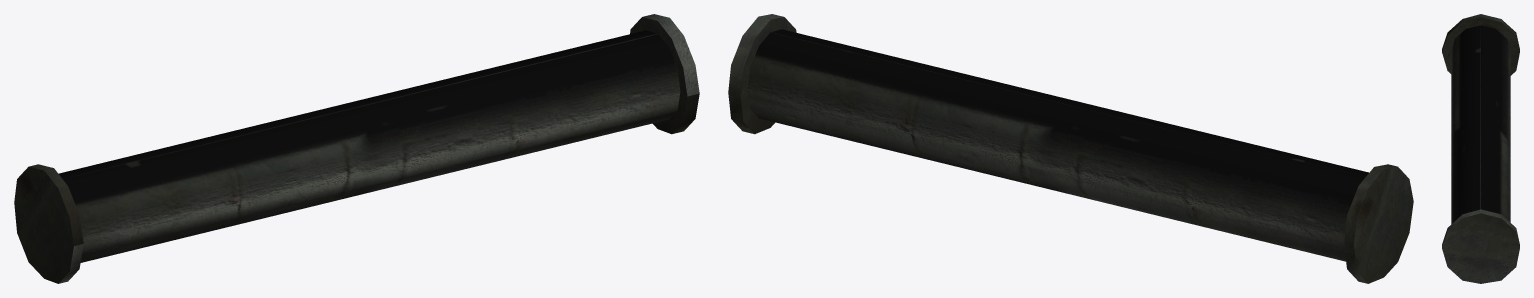
Rendered from pipe1.obj.
The picture shows the model from 3 angles, left to right: view 1: azimuth 30°, elevation 25°; view 2: azimuth 150°, elevation 25°; view 3: azimuth 270°, elevation 25°; orthographic projection. The views are drawn at different scales.
Visible parts, largest first — view 1: Group; view 2: Group; view 3: Group.
Boxes of the visible parts, x1,y1,x2,y2 form: Group: (14,14,699,283); Group: (728,14,1413,283); Group: (1442,14,1519,283).
Bounding box in the file's own units: 411 × 67.95 × 67.95.
